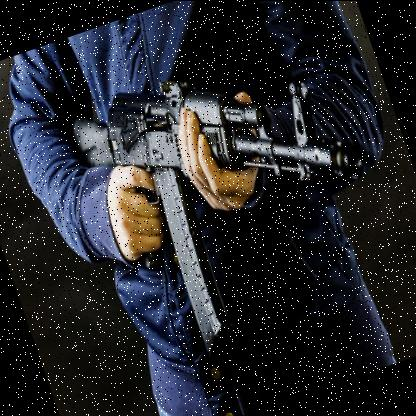rifle: (51, 14, 407, 380)
